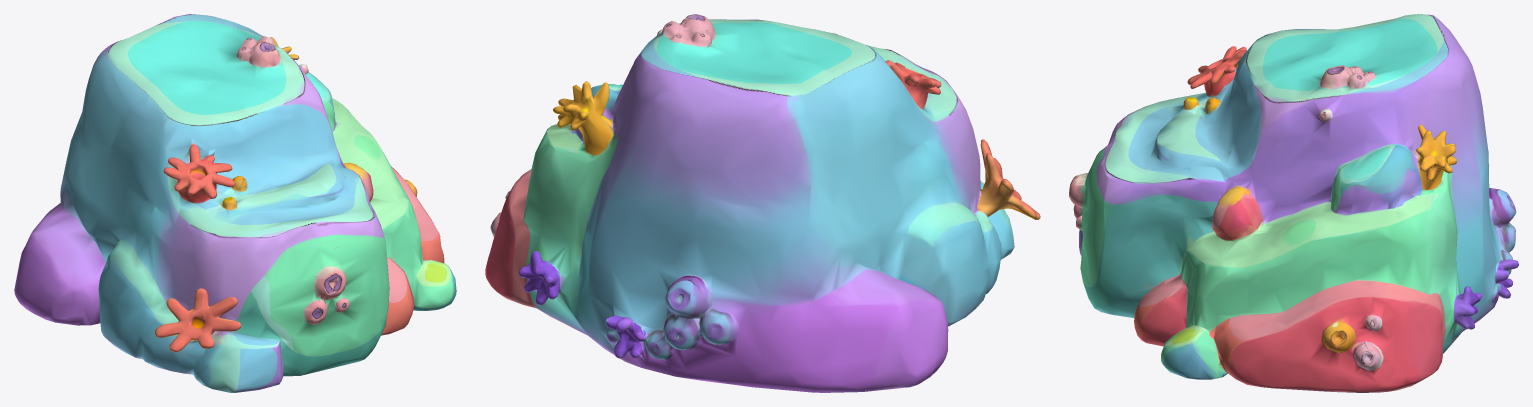
File: static.glb
3 renders of one model, left to right at view 1: azimuth 30°, elevation 25°; view 2: azimuth 150°, elevation 25°; view 3: azimuth 270°, elevation 25°, orthographic. The views are drawn at different scales.
Visible parts, largest first — view 1: Mesh_0; view 2: Mesh_0; view 3: Mesh_0.
Part boxes in pixels (<box>): Mesh_0: <box>14,14,456,392</box>; Mesh_0: <box>485,14,1040,392</box>; Mesh_0: <box>1069,14,1518,392</box>.
Size of the model in its own units: 1.9 by 1.12 by 1.84.
1 material, 1 textured.
